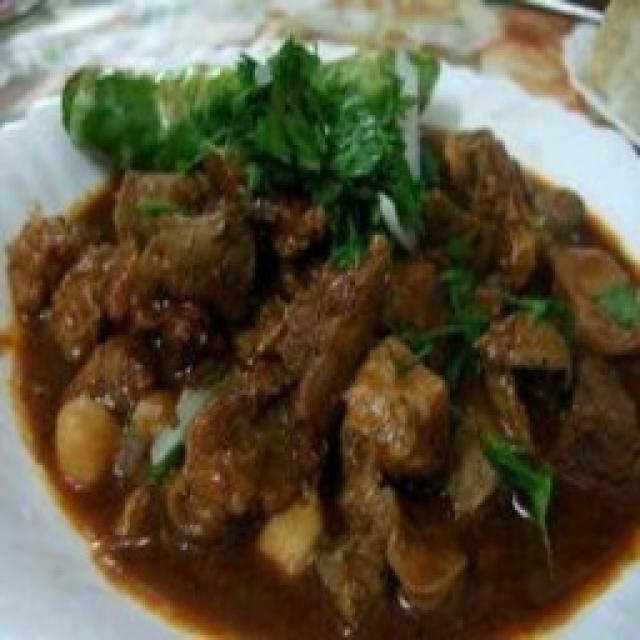Kamouniya: (4, 44, 640, 640)
